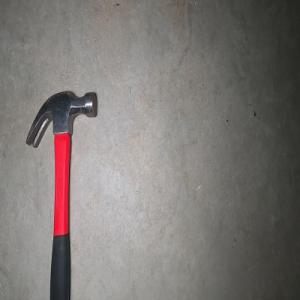Hammer: (25, 90, 98, 300)
